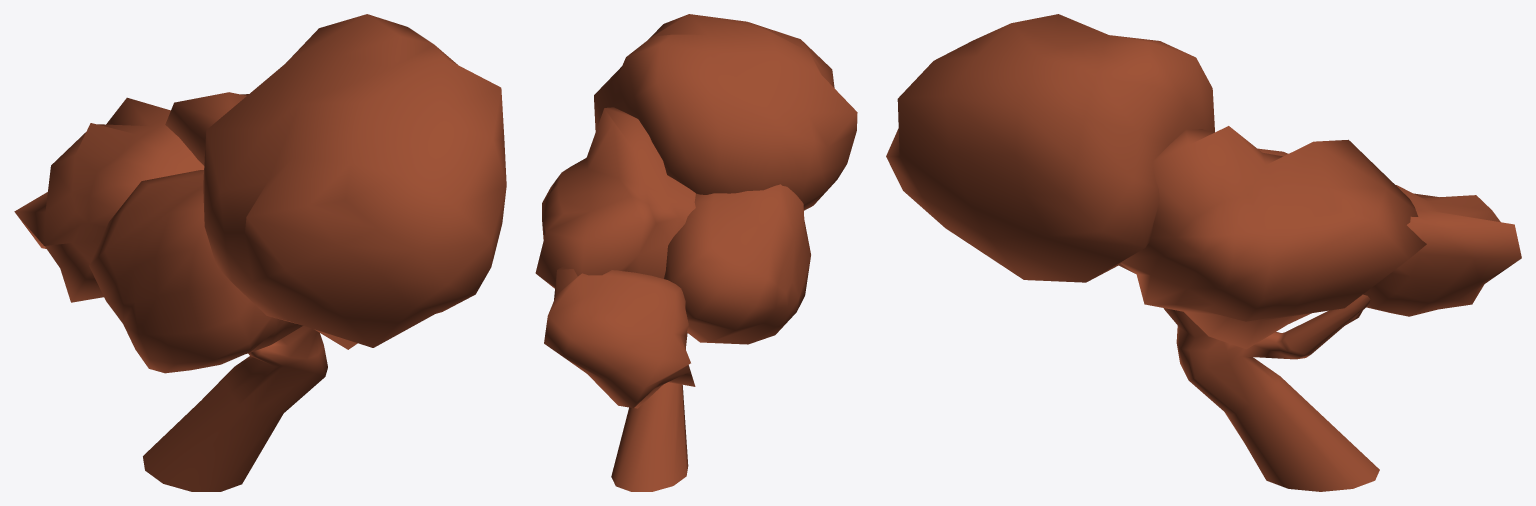
File: Desert_Tree5.fbx
The picture shows the model from 3 angles, left to right: view 1: azimuth 30°, elevation 25°; view 2: azimuth 150°, elevation 25°; view 3: azimuth 270°, elevation 25°; orthographic projection. The views are drawn at different scales.
Parts seen in each view (by area): view 1: Tree; view 2: Tree; view 3: Tree.
Boxes of the visible parts, x1,y1,x2,y2 form: Tree: (14, 14, 506, 491); Tree: (535, 14, 857, 491); Tree: (886, 14, 1521, 491).
Bounding box in the file's own units: 2.51 × 3.73 × 4.61.
